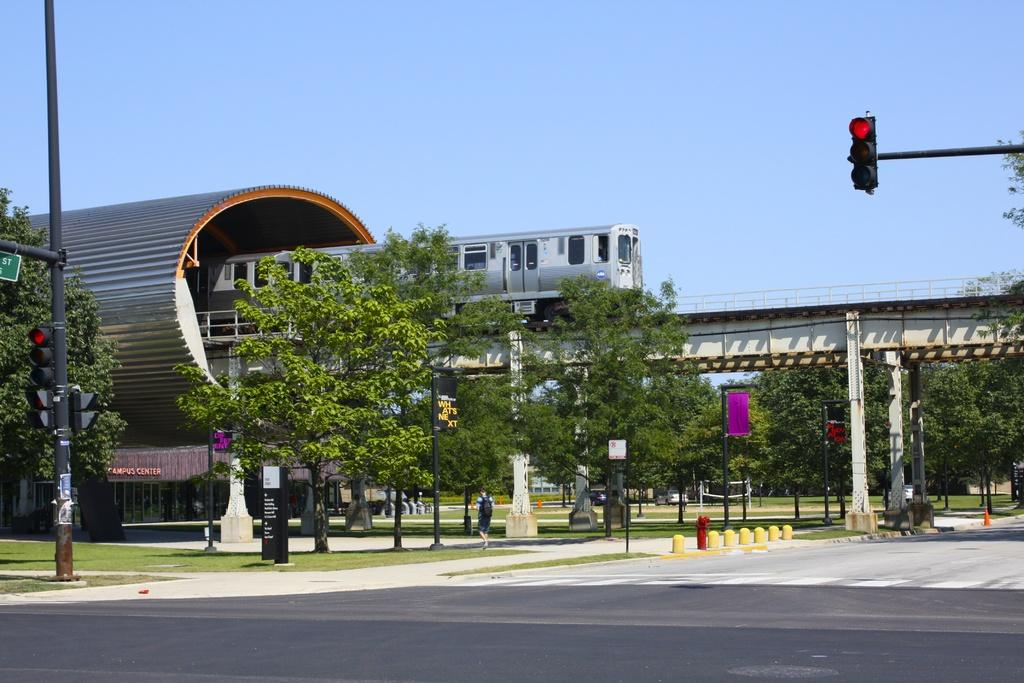red_light: (848, 116, 879, 190), (29, 324, 54, 387)
